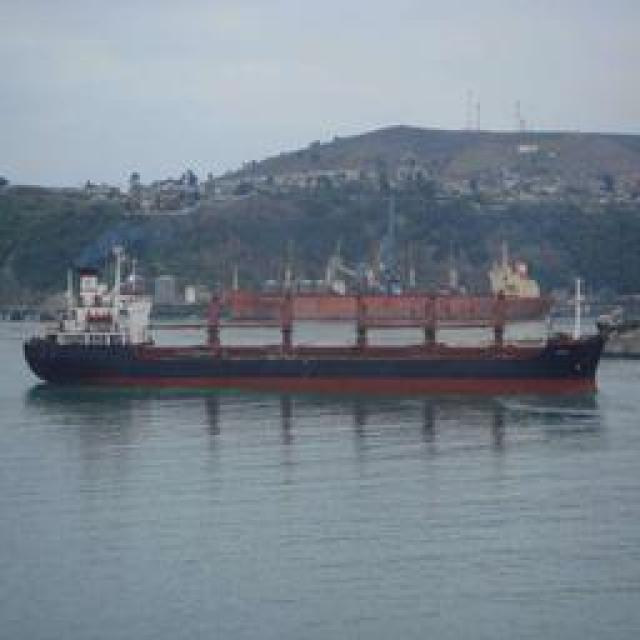CIV_Ship: (32, 266, 602, 396)
